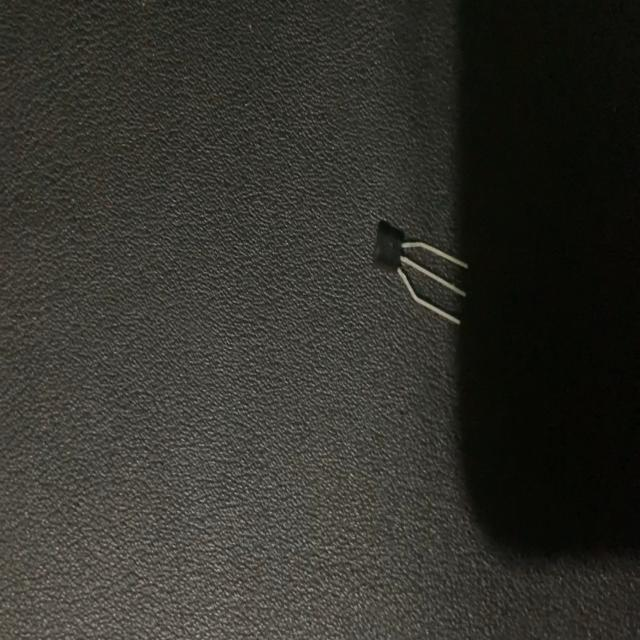BJT: (372, 216, 466, 330)
